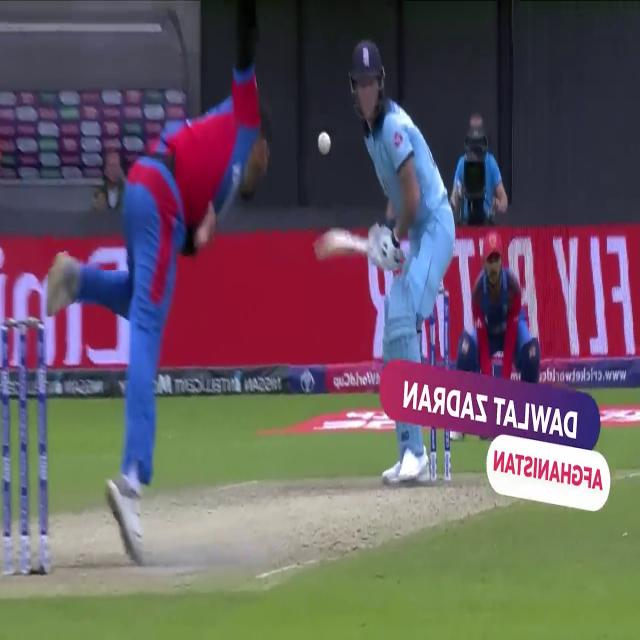ball: (314, 124, 334, 160)
